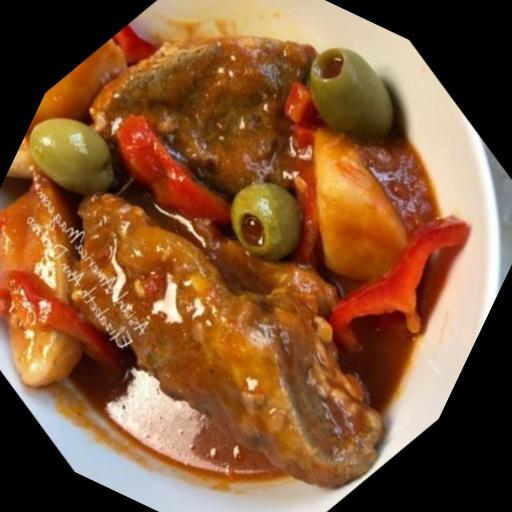pork caldereta: (0, 38, 441, 472)
